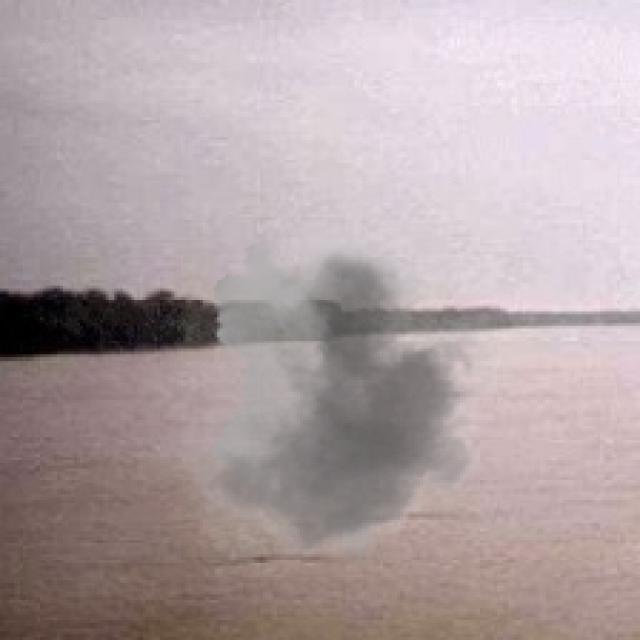smoke: (134, 220, 520, 580)
